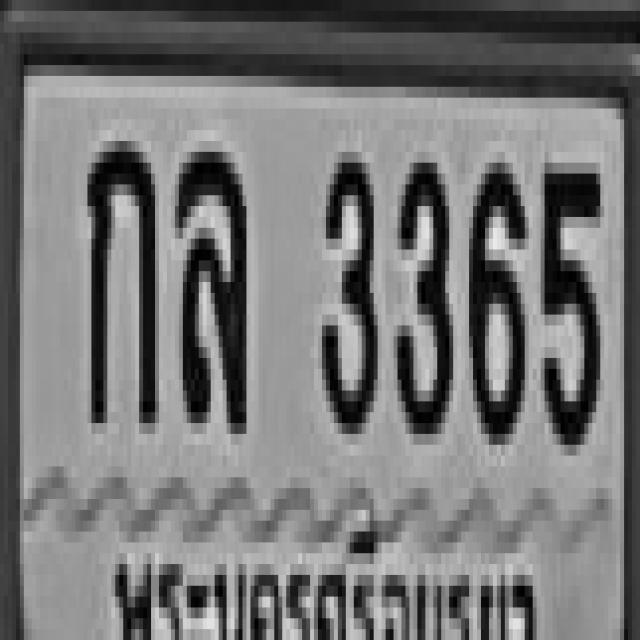-: (84, 125, 155, 418), (171, 136, 242, 418)
3: (318, 136, 374, 418), (394, 152, 449, 423)
5: (537, 146, 596, 440)
6: (465, 152, 521, 434)
AYA: (111, 499, 549, 640)
